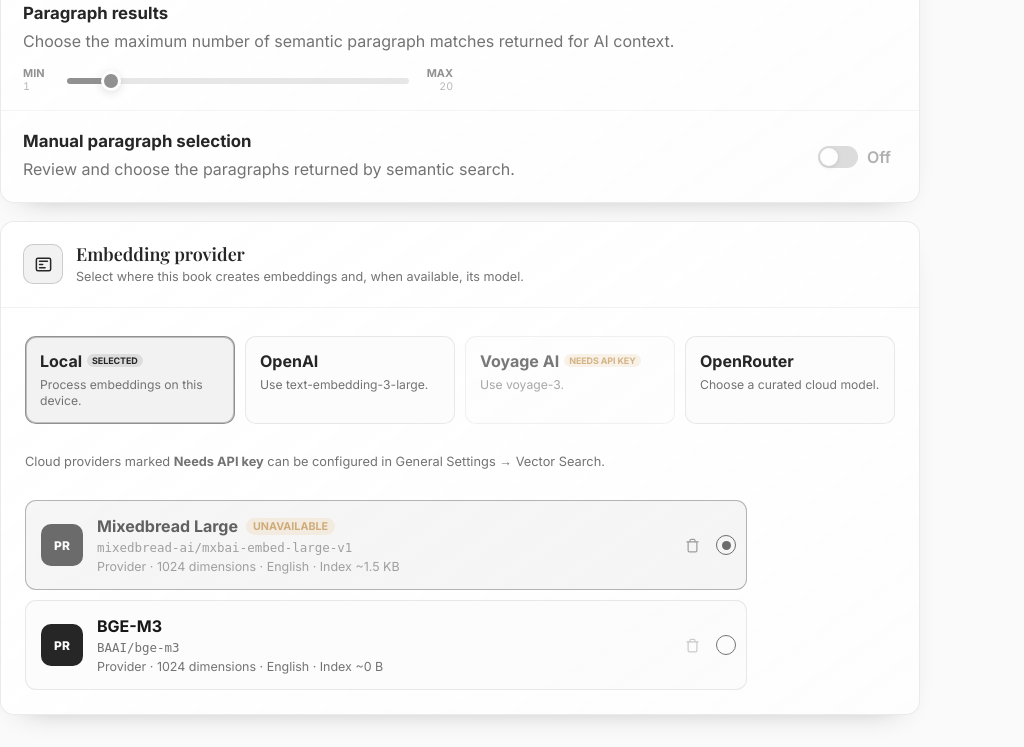
Scenario: BookVectorSettingsComponent › allows an unconfigured provider tab to be viewed for retained-index cleanup
(page scrolled)
Click the tab "Voyage AI Needs API key Use voyage-3." at (570, 380), box [465, 336, 675, 424]
(page scrolled)
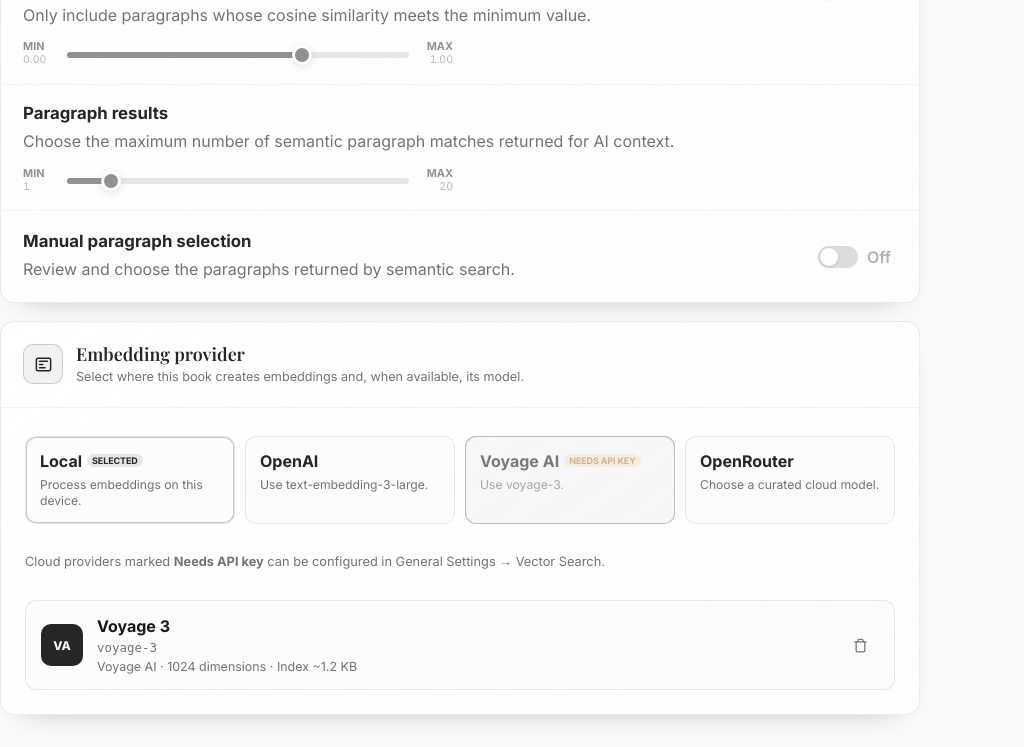
Now the text "Voyage 3" is shown, box [97, 616, 170, 636]
